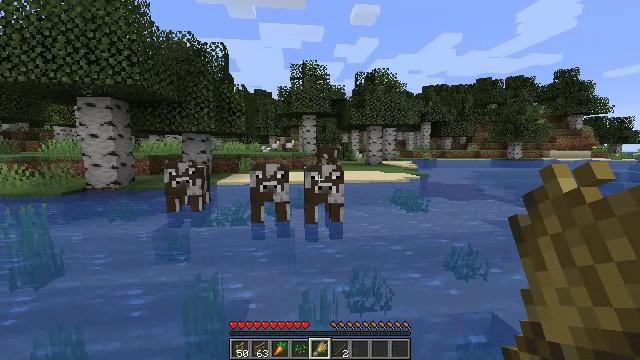cow: (250, 164, 290, 221), (304, 167, 343, 223), (165, 164, 212, 208), (316, 144, 341, 166)
